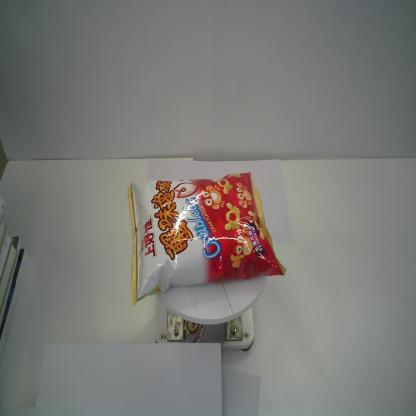Puffed Food: (124, 169, 288, 312)
